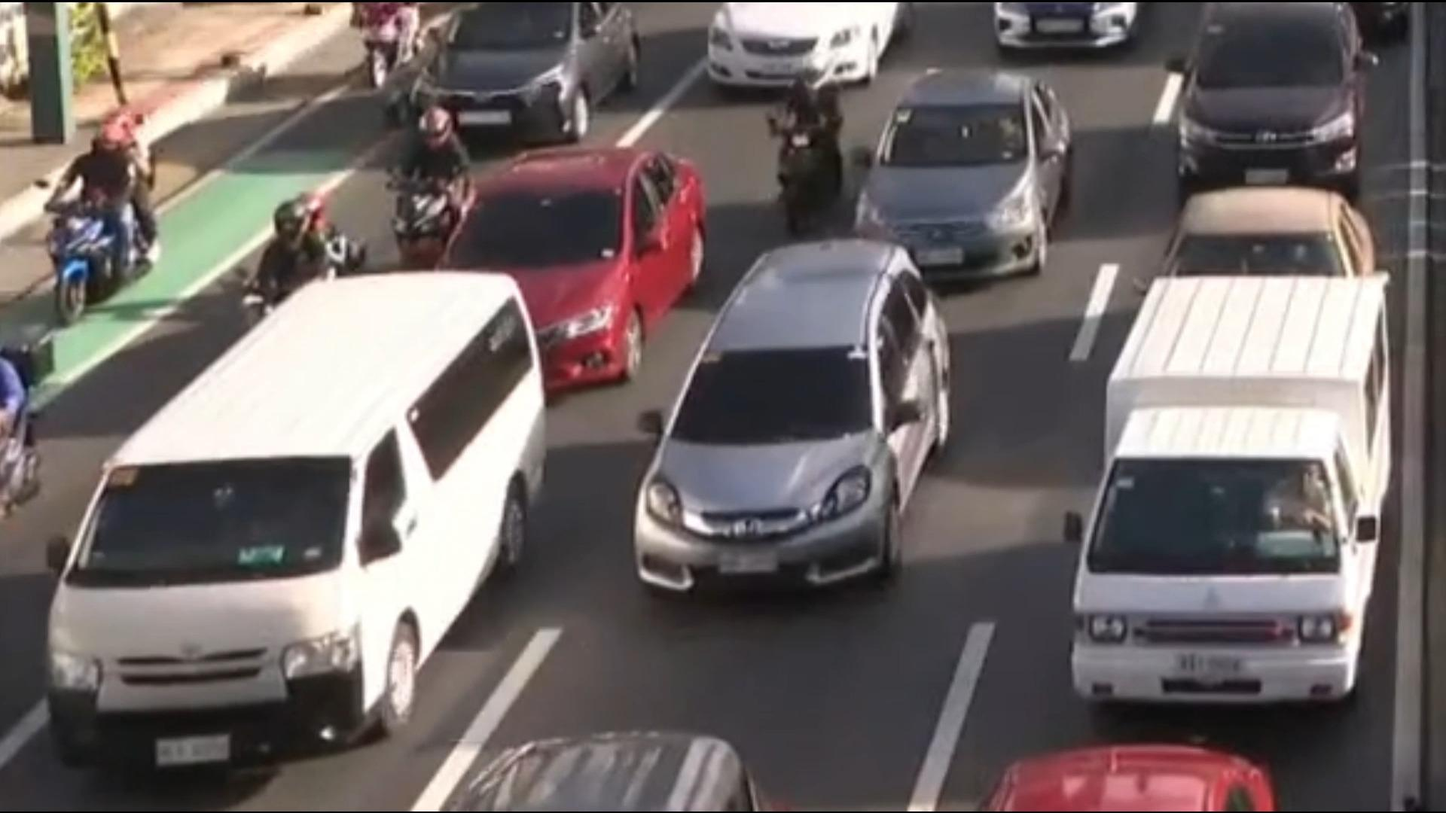Motorcycle: (12, 87, 185, 334), (751, 53, 876, 249), (241, 185, 373, 315), (378, 110, 471, 264), (337, 0, 426, 89)
Multicab: (1039, 254, 1431, 709)
SUV: (591, 249, 993, 618), (1162, 0, 1443, 185)
Sedan: (450, 125, 727, 401), (828, 74, 1123, 277), (414, 0, 656, 134), (1138, 194, 1412, 280)
Van: (30, 237, 605, 798)
